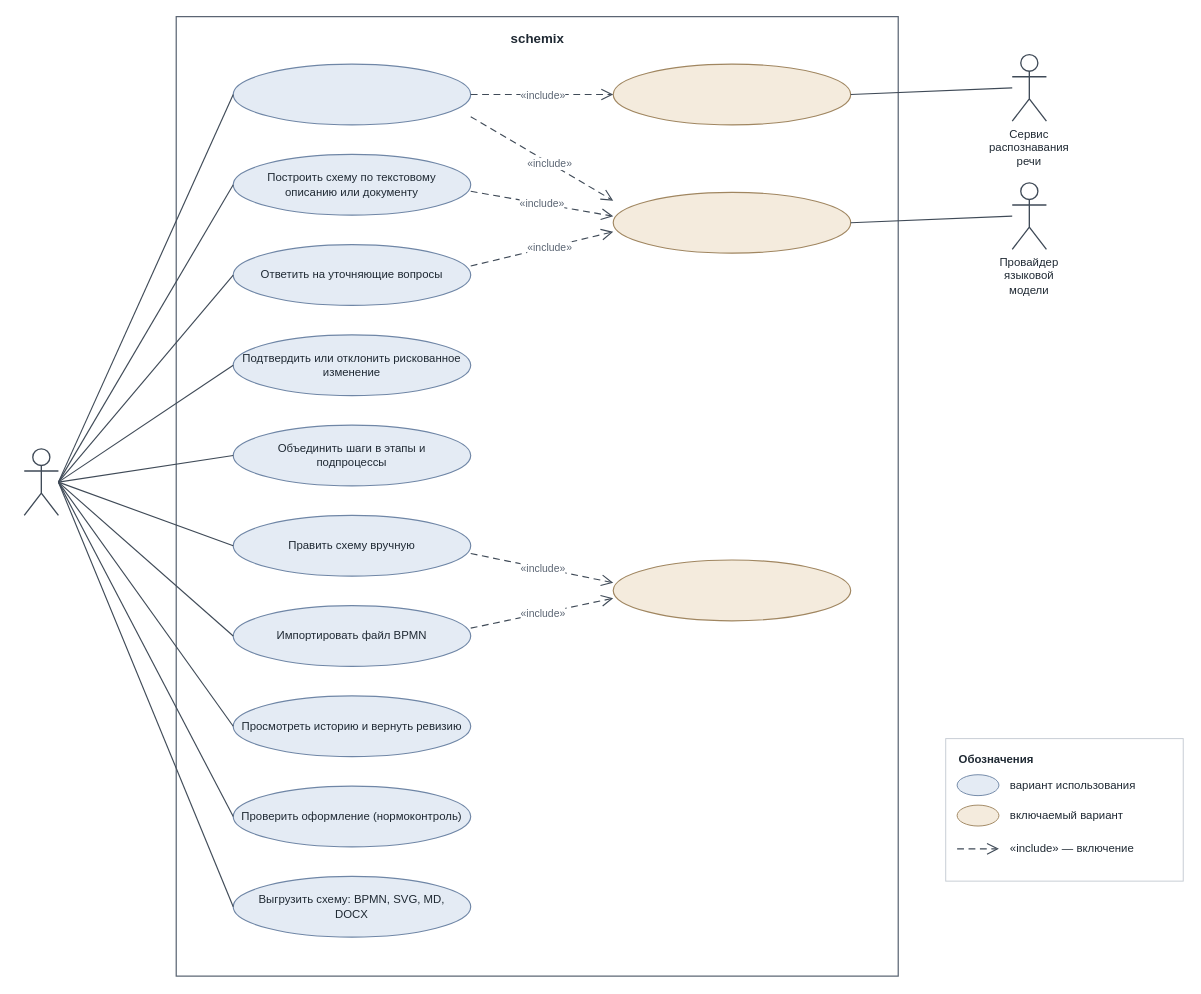
Image size: 1201x994. Some labels were removed from this diagram. The box of each missing label's shape, as (x1, y1, x2, y2) in pixels:
Аналитик: (23, 448, 59, 516)
Извлечь факты ролями модели: (612, 191, 851, 253)
Проверить схему по XSD и профилю редактора: (612, 559, 851, 621)
Продиктовать процесс голосом: (232, 63, 471, 125)
Распознать фразу: (612, 63, 851, 125)
